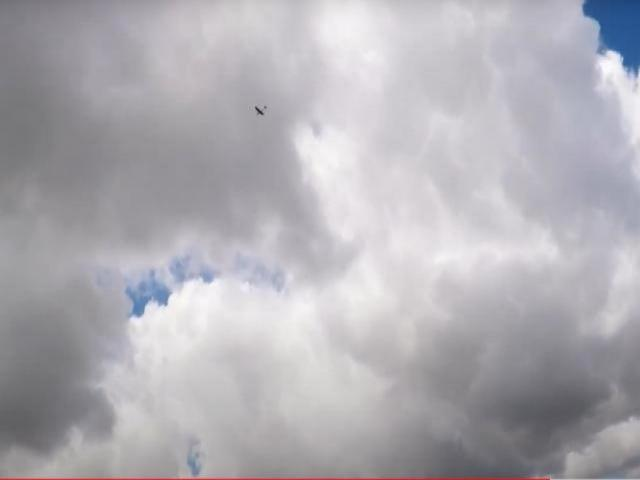iha: (249, 101, 271, 122)
